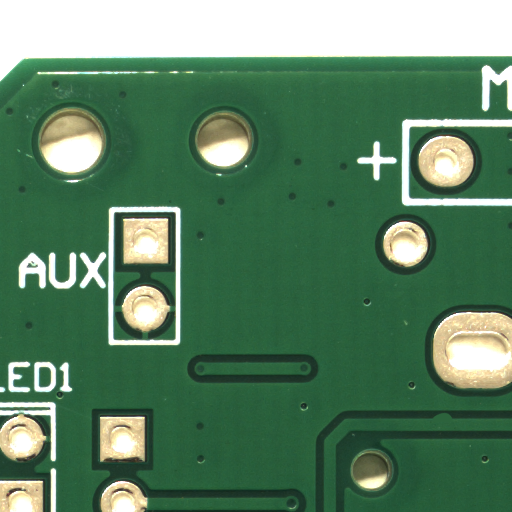Spur: (441, 416, 462, 423)
